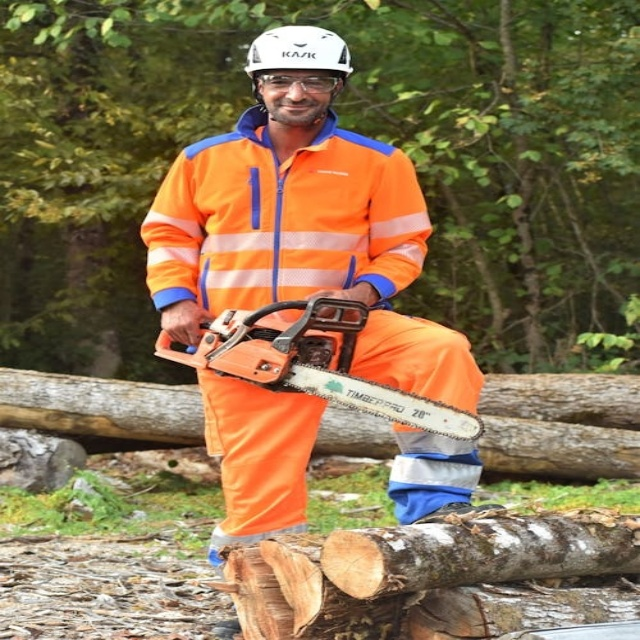Gafas: (258, 75, 342, 93)
Sin_guantes: (157, 300, 215, 351), (299, 286, 368, 324)
Sin_mascara: (275, 100, 315, 121)
